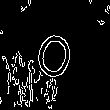O_SW: (30, 22, 80, 88)
